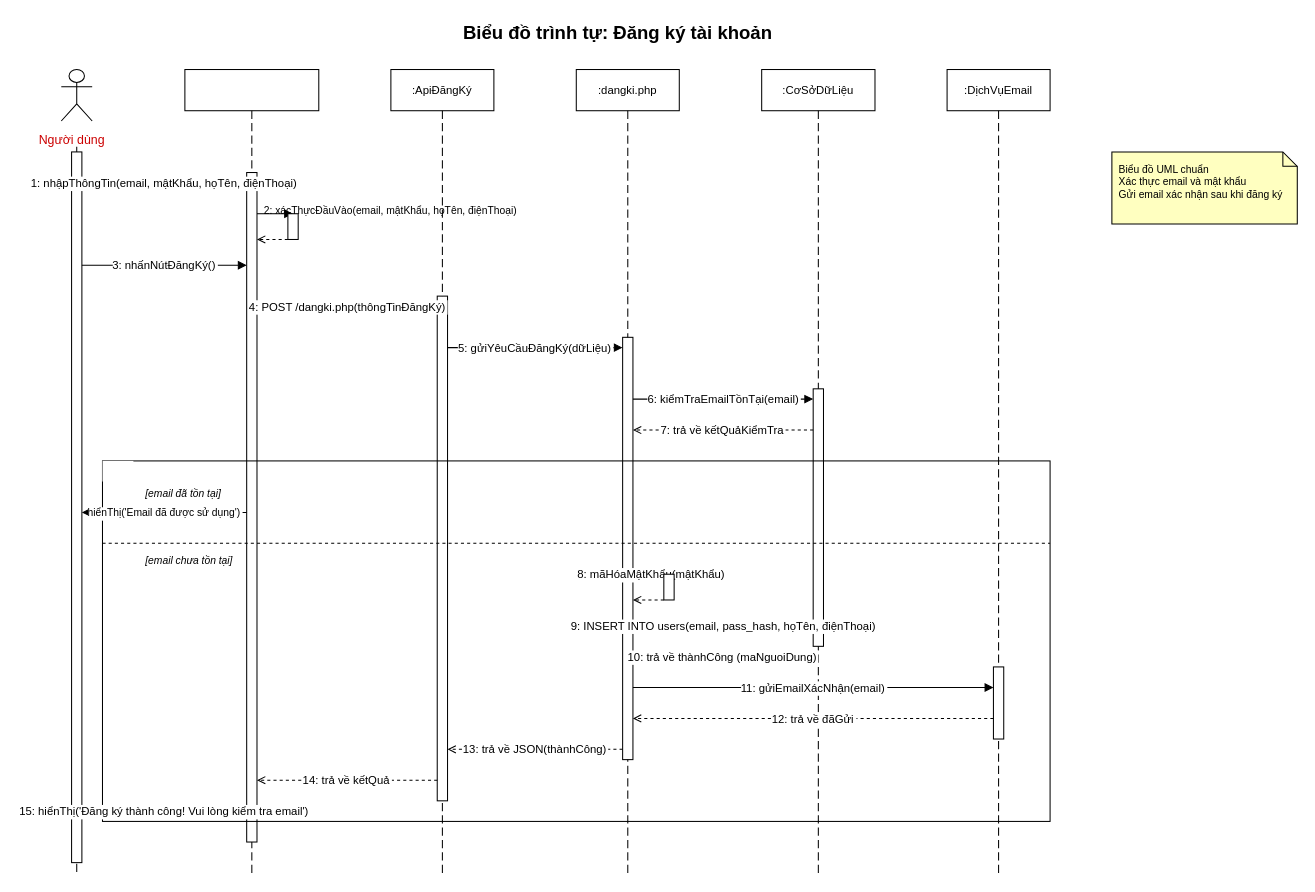
Image size: 1315x892. Some labels were removed from this diagram. The centre of each missing label's shape, as x and y in pixels:
":MànHìnhĐăngKý" belongs at pixel 251 89.
"alt" belongs at pixel 117 470.
